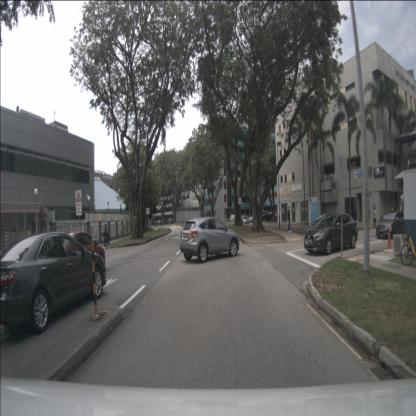cone: (386, 229, 393, 250)
